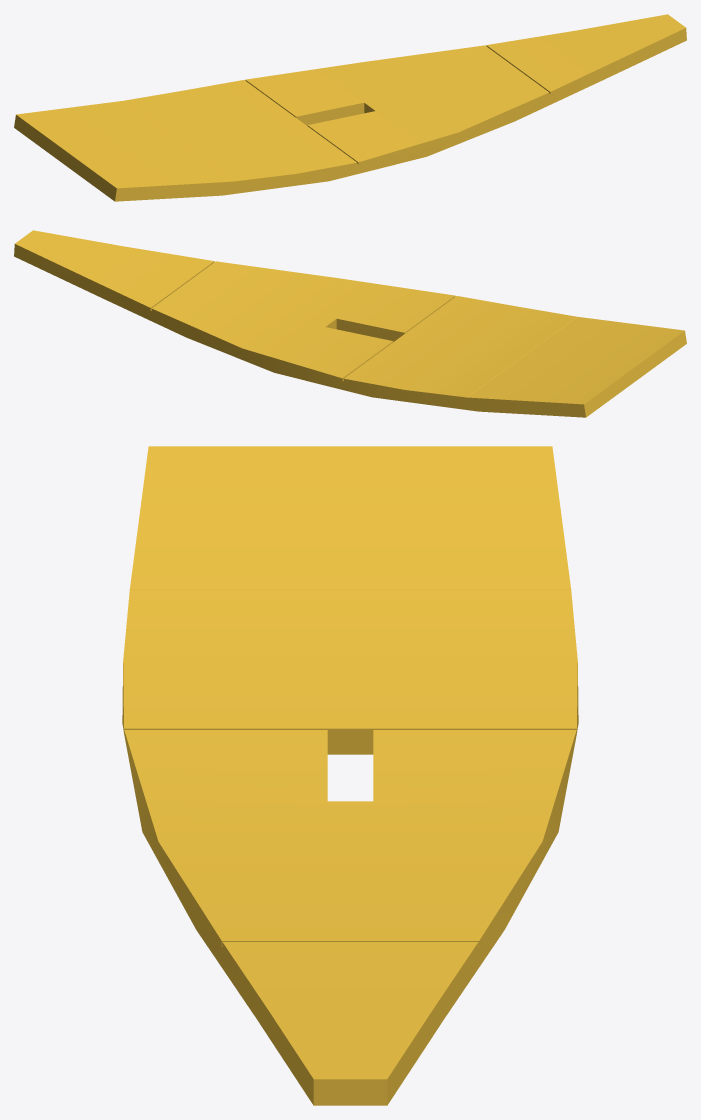
File: espuma.dae
The picture shows the model from 3 angles, top to bottom: view 1: azimuth 30°, elevation 25°; view 2: azimuth 150°, elevation 25°; view 3: azimuth 270°, elevation 25°; orthographic projection. The views are drawn at different scales.
Visible parts, largest first — view 1: ID2; view 2: ID2; view 3: ID2.
Part boxes in pixels (x1,y1,x2,y2): ID2: (14,14,686,201); ID2: (14,230,686,417); ID2: (122,446,578,1105).
Bounding box in the file's own units: 2.48 × 0.7986 × 0.164.
